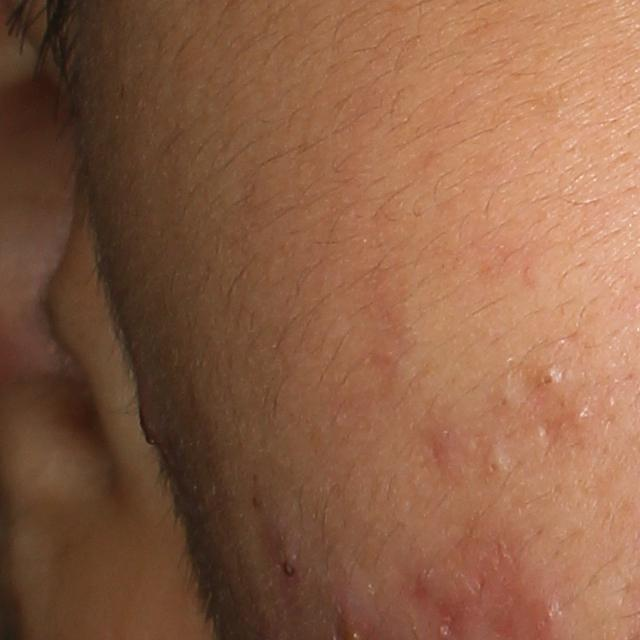atrophic_scar: (500, 356, 563, 421), (531, 404, 601, 450)
comedo: (479, 442, 518, 486), (537, 361, 569, 395)
